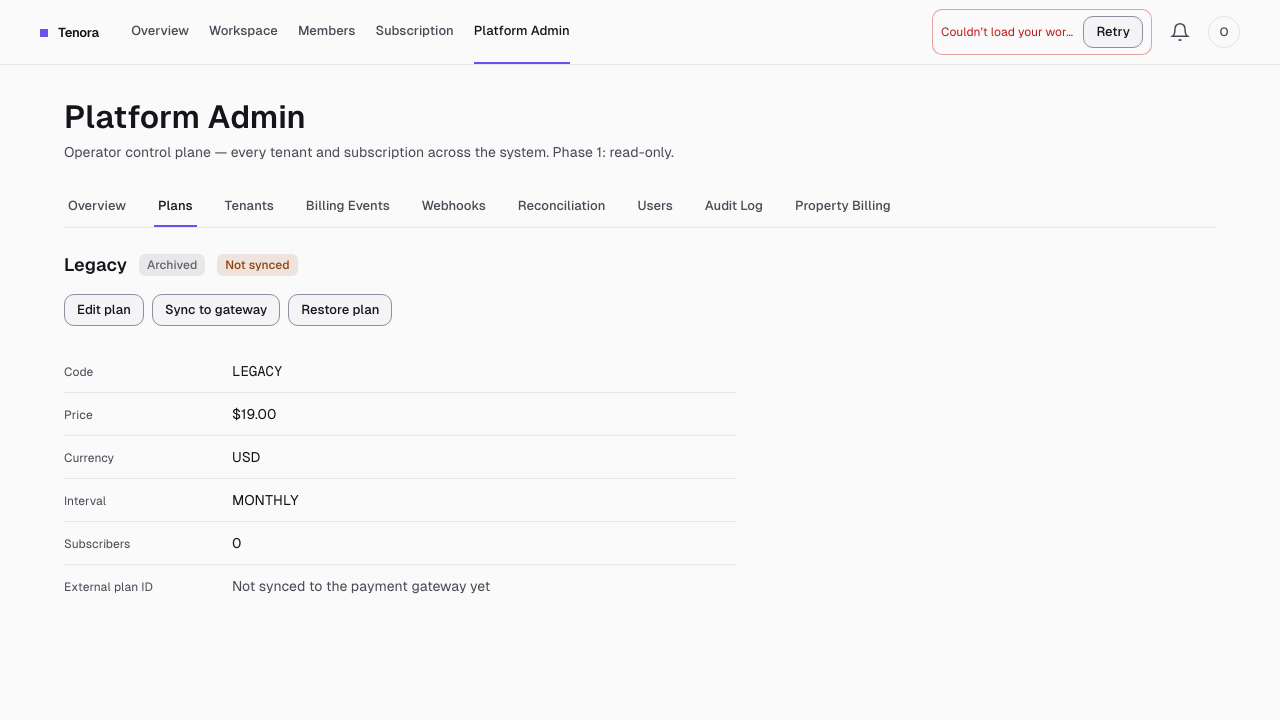
Scenario: PlanDetailPage — operator actions (Phase 3) › syncs only after the confirm dialog is accepted, and reports the result
expect the heading "Legacy" is shown: met, box [64,252,127,278]
Click the button "Sync to gateway": click(216, 310) [152,294,280,326]
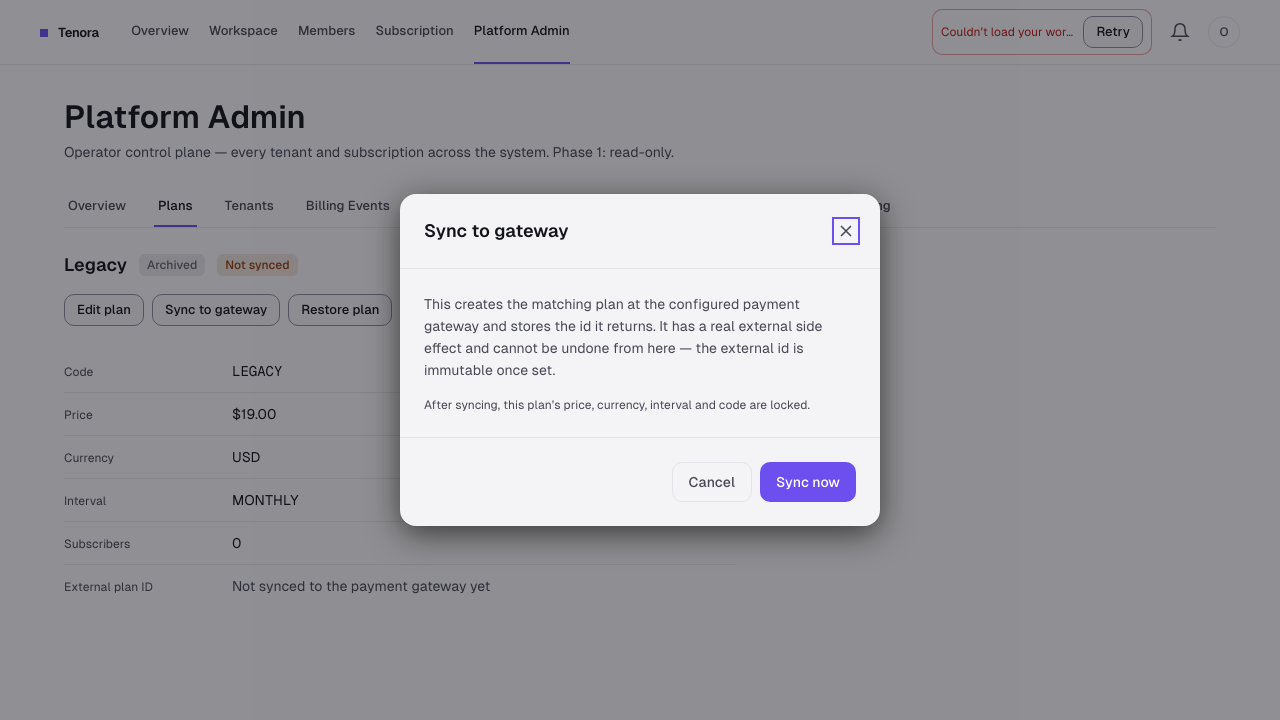
expect the dialog is shown: met, box [400,194,880,526]
Click the button "Sync now": click(808, 482) [760,462,856,502]
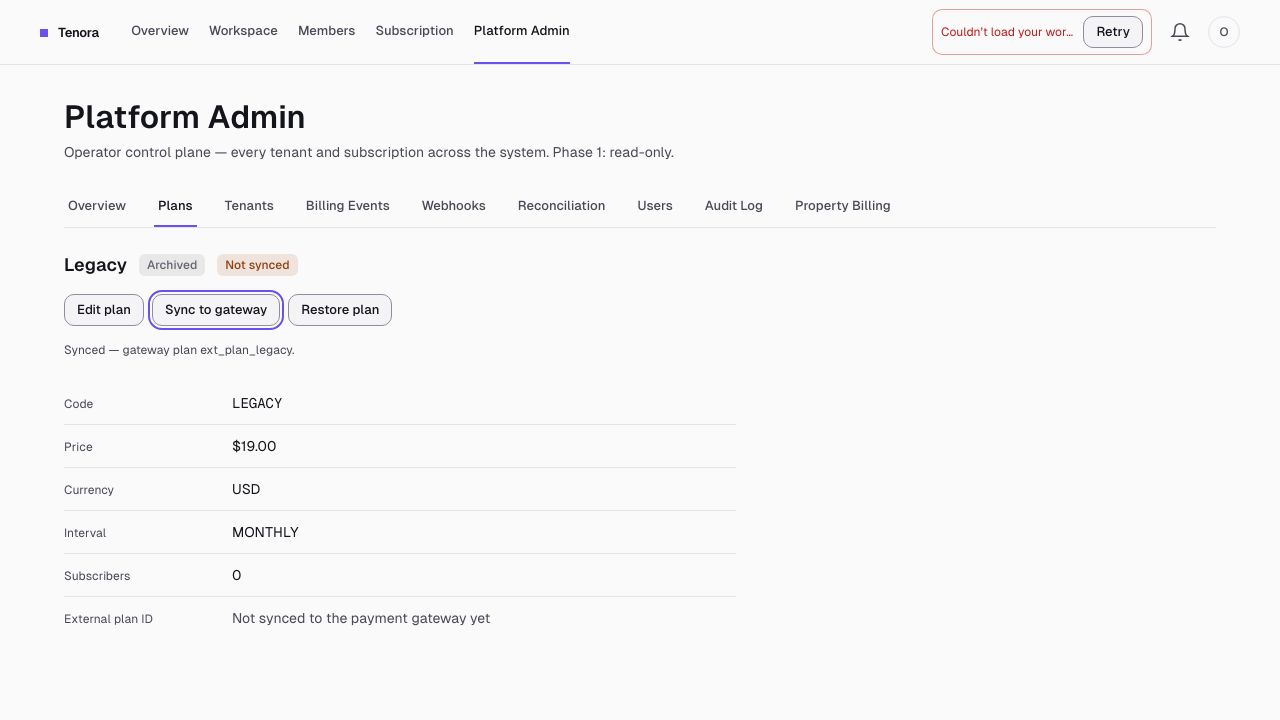
expect the text "Synced — gateway plan ext_plan_legacy." is shown: met, box [64,343,294,357]
